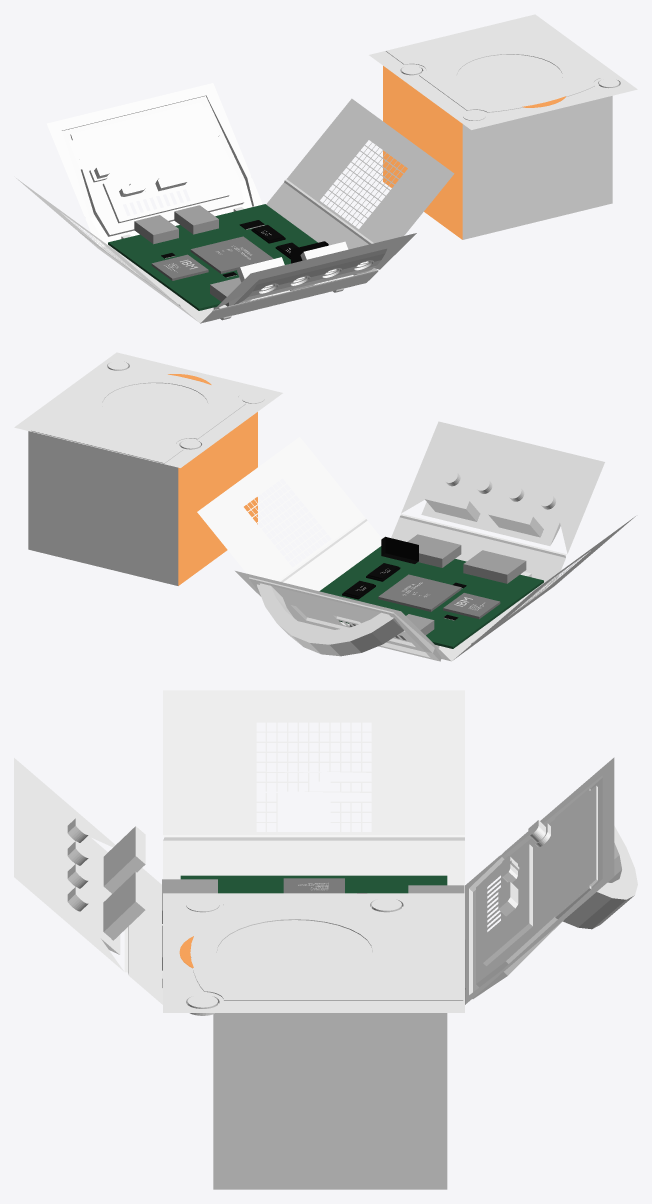
File: Gamecube.glb
3 views of the same model, one above another, from view 1: azimuth 30°, elevation 25°; view 2: azimuth 150°, elevation 25°; view 3: azimuth 270°, elevation 25° (orthographic). The views are drawn at different scales.
Visible parts, largest first — view 1: DiskDrive, Gamecube.037, Gamecube.030, RightPanel, Motherboard, Gamecube.034, Gamecube.003, GPU Unit, LeftPanel, Connector-B-2, Connector-B-1, CPU Unit (+2 smaller); view 2: DiskDrive, Gamecube.034, Gamecube.030, RightPanel, Motherboard, Gamecube.037, Gamecube.028, Gamecube.003, GPU Unit, Connector-F-1, LeftPanel, Connector-F-2 (+3 smaller); view 3: LeftPanel, DiskDrive, Gamecube.030, Gamecube.037, Gamecube.034, Motherboard, Gamecube.028, Gamecube.003, CPU Unit, Connector-F-1.
Boxes of the visible parts, x1,y1,x2,y2 form: DiskDrive: (383, 66, 612, 239); Gamecube.037: (47, 83, 262, 246); Gamecube.030: (369, 14, 637, 129); RightPanel: (266, 98, 454, 274); Motherboard: (108, 204, 317, 310); Gamecube.034: (200, 233, 416, 323); Gamecube.003: (234, 248, 386, 304); GPU Unit: (190, 236, 273, 273); LeftPanel: (16, 178, 199, 322); Connector-B-2: (174, 205, 218, 234); Connector-B-1: (134, 215, 178, 244); CPU Unit: (151, 254, 208, 280); DiskDrive: (28, 412, 257, 585); Gamecube.034: (391, 421, 604, 584); Gamecube.030: (14, 352, 282, 467); RightPanel: (197, 437, 381, 590); Motherboard: (319, 546, 543, 648); Gamecube.037: (235, 571, 451, 661); Gamecube.028: (257, 583, 403, 656); Gamecube.003: (421, 481, 560, 545); GPU Unit: (378, 574, 461, 611); Connector-F-1: (463, 550, 526, 583); LeftPanel: (454, 516, 635, 659); Connector-F-2: (407, 534, 461, 567); LeftPanel: (163, 690, 464, 885); DiskDrive: (213, 906, 447, 1189); Gamecube.030: (163, 893, 464, 1012); Gamecube.037: (465, 757, 614, 1003); Gamecube.034: (14, 758, 162, 1004); Motherboard: (180, 875, 447, 893); Gamecube.028: (555, 788, 637, 929); Gamecube.003: (73, 836, 120, 954); CPU Unit: (283, 878, 344, 893); Connector-F-1: (162, 879, 217, 923).
Bounding box in the file's own units: 0.4688 × 0.1127 × 0.3306.
